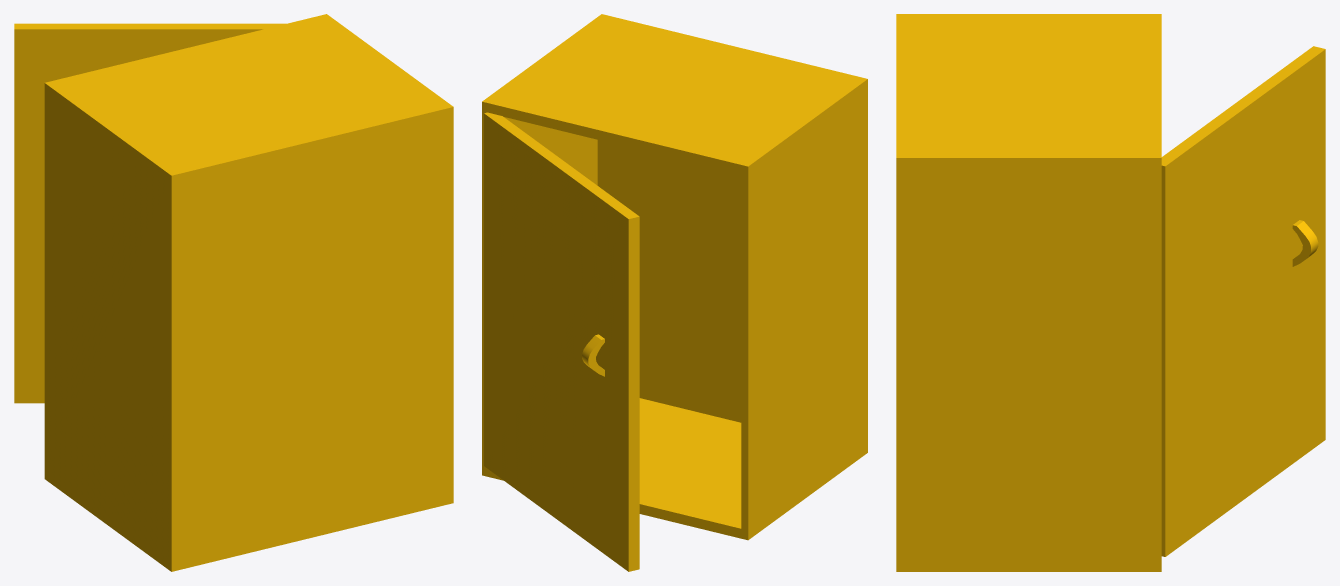
Rendered from Closet.fbx.
3 views of the same model, side by side, from view 1: azimuth 30°, elevation 25°; view 2: azimuth 150°, elevation 25°; view 3: azimuth 270°, elevation 25° (orthographic). The views are drawn at different scales.
Visible parts, largest first — view 1: Closet, pCube101; view 2: Closet, pCube101, pCube102; view 3: Closet, pCube101, pCube102.
Boxes of the visible parts, x1,y1,x2,y2 form: Closet: [44, 14, 453, 571]; pCube101: [14, 23, 286, 403]; Closet: [482, 14, 867, 540]; pCube101: [484, 112, 639, 571]; pCube102: [582, 334, 604, 376]; Closet: [896, 14, 1161, 571]; pCube101: [1161, 46, 1325, 556]; pCube102: [1292, 220, 1318, 266].
Size of the model in its own units: 9.52 by 12.77 by 12.01.
